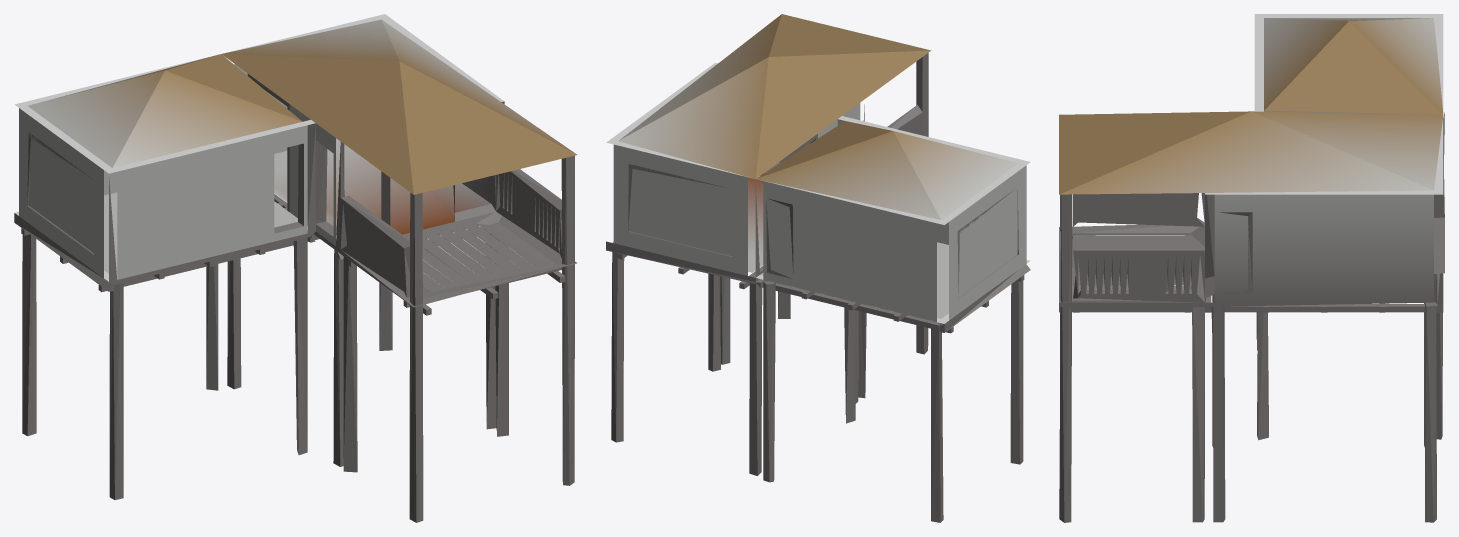
File: pier-hut.lod1.glb
The picture shows the model from 3 angles, left to right: view 1: azimuth 30°, elevation 25°; view 2: azimuth 150°, elevation 25°; view 3: azimuth 270°, elevation 25°; orthographic projection. The views are drawn at different scales.
Parts seen in each view (by area): view 1: Material2; view 2: Material2; view 3: Material2.
Boxes of the visible parts, <box> form: Material2: <box>14,14,577,522</box>; Material2: <box>606,14,1030,522</box>; Material2: <box>1059,14,1444,522</box>.
Bounding box in the file's own units: 12 × 11.44 × 10.76.
